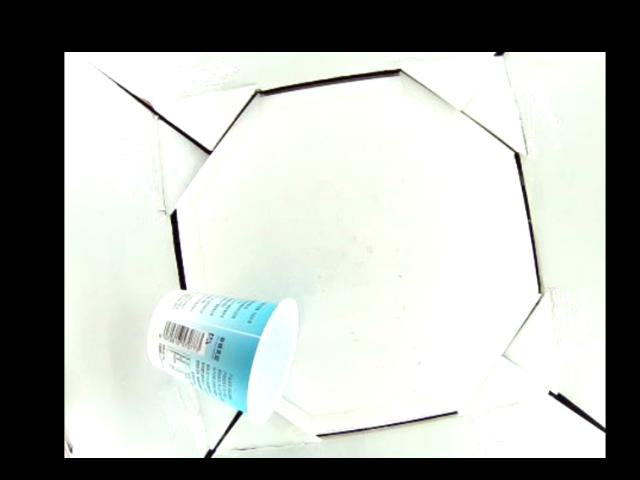Cup: (143, 287, 296, 426)
